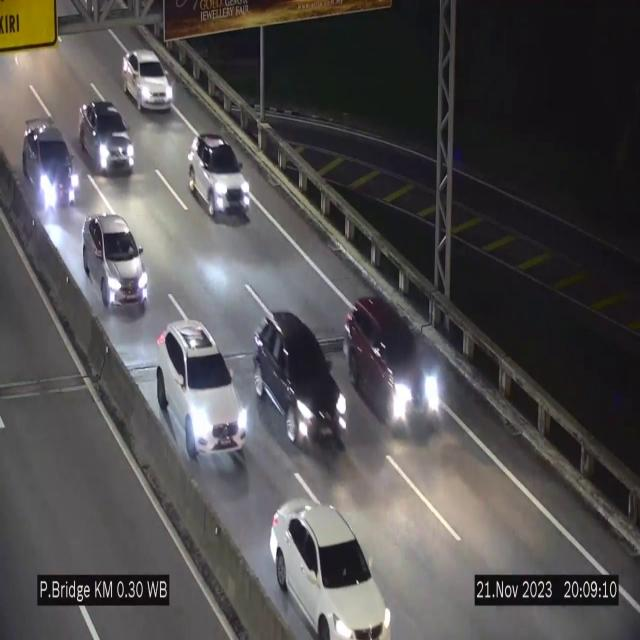Car: (270, 500, 390, 639), (251, 308, 351, 458), (156, 322, 250, 465), (346, 294, 436, 436), (82, 213, 148, 311), (18, 115, 80, 213), (188, 132, 250, 218), (79, 100, 135, 173), (121, 49, 173, 111)
